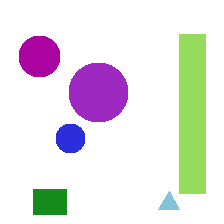circle: (69, 63, 127, 121), (19, 36, 59, 76), (56, 124, 84, 152)
rectangle: (179, 34, 205, 193), (33, 189, 66, 214)
triangle: (158, 191, 179, 209)
